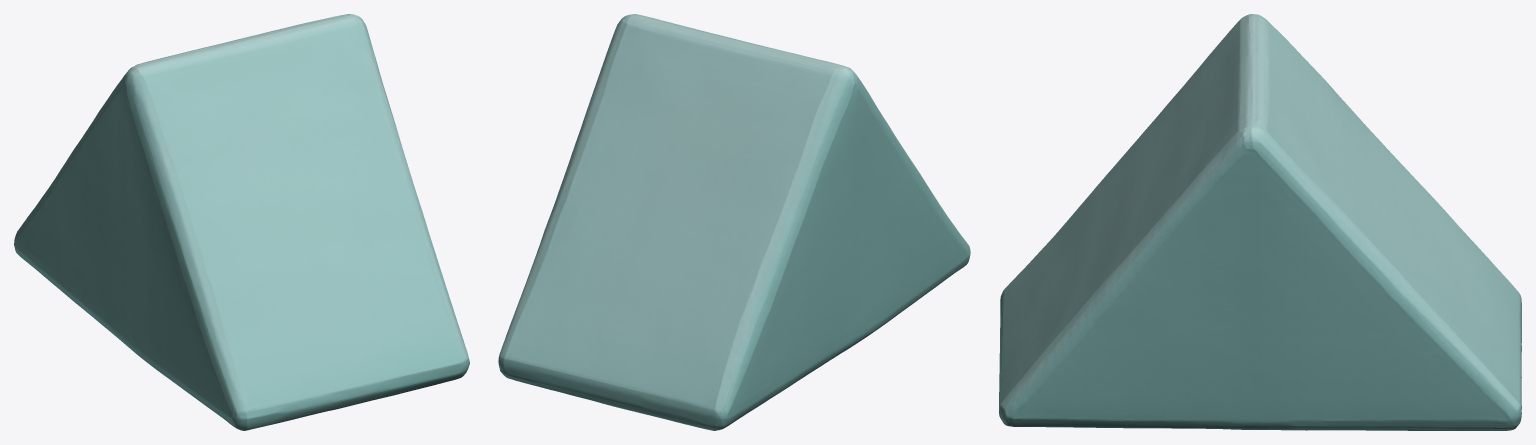
File: obj3_scaled_obb.glb
3 views of the same model, side by side, from view 1: azimuth 30°, elevation 25°; view 2: azimuth 150°, elevation 25°; view 3: azimuth 270°, elevation 25° (orthographic). The views are drawn at different scales.
Visible parts, largest first — view 1: world; view 2: world; view 3: world.
Part boxes in pixels (x1,y1,x2,y2): world: [14, 14, 469, 430]; world: [498, 14, 970, 430]; world: [999, 14, 1521, 430].
Bounding box in the file's own units: 0.0325 × 0.0359 × 0.0557.
